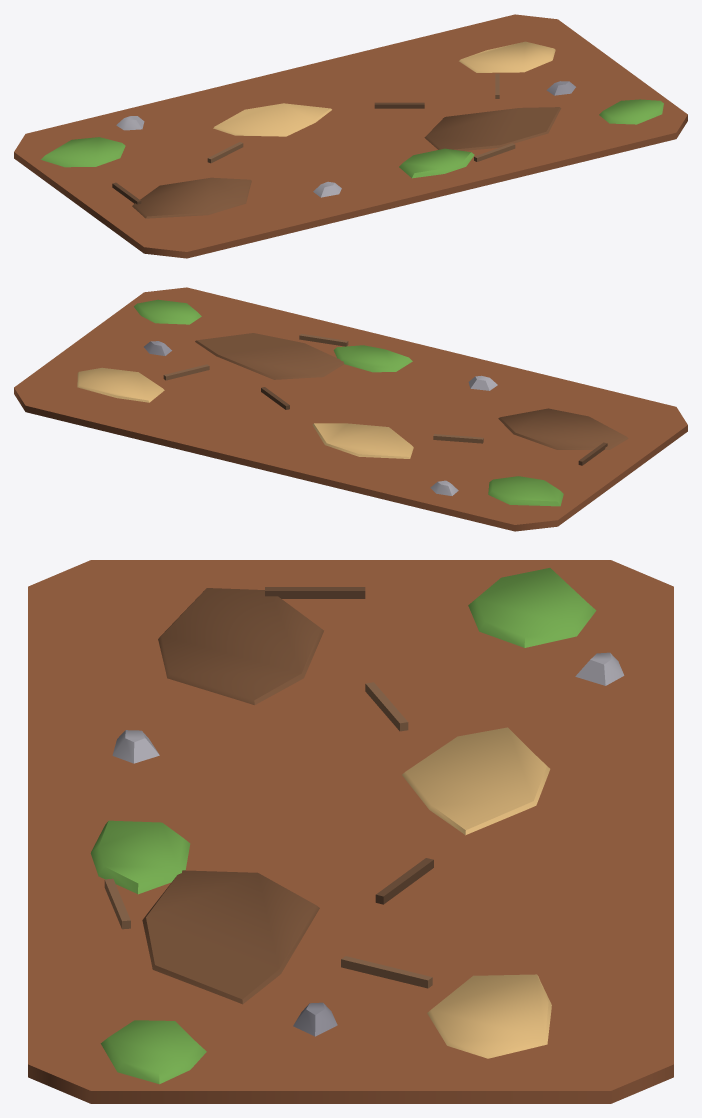
Rendered from terrarium_floor_chameleon.glb.
3 renders of one model, top to bottom at view 1: azimuth 30°, elevation 25°; view 2: azimuth 150°, elevation 25°; view 3: azimuth 270°, elevation 25°, orthographic. The views are drawn at different scales.
Parts seen in each view (by area): view 1: terrarium_floor_chameleon; view 2: terrarium_floor_chameleon; view 3: terrarium_floor_chameleon.
Part boxes in pixels (x1,y1,x2,y2): terrarium_floor_chameleon: (14, 14, 687, 258); terrarium_floor_chameleon: (14, 287, 687, 531); terrarium_floor_chameleon: (28, 560, 673, 1103).
Size of the model in its own units: 7 by 0.17 by 3.6.
Materials: 1 (1 with a texture image).
